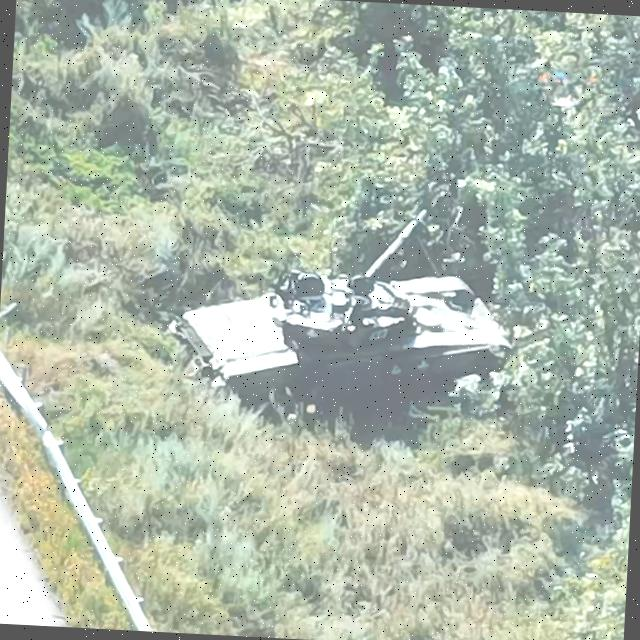MBT: (171, 201, 517, 402)
